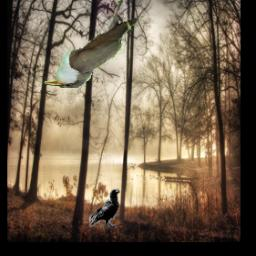Crow: (89, 189, 120, 229)
Cuckoo: (41, 0, 138, 88)
